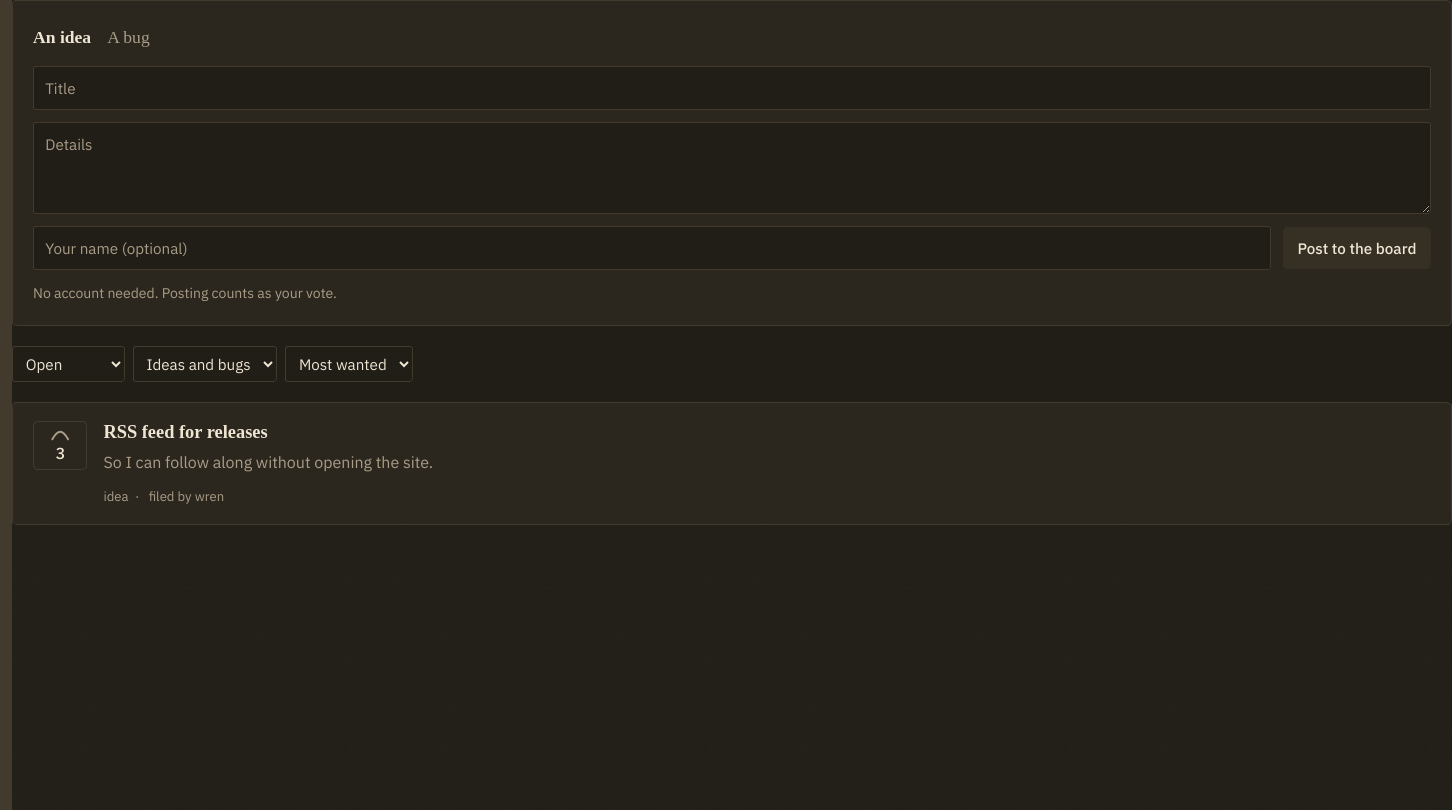
Test case: BoardPanel › surfaces a rejected mutation instead of swallowing it
Click the button "3" at x=60, y=446, box x1=33 y1=421 x2=87 y2=470
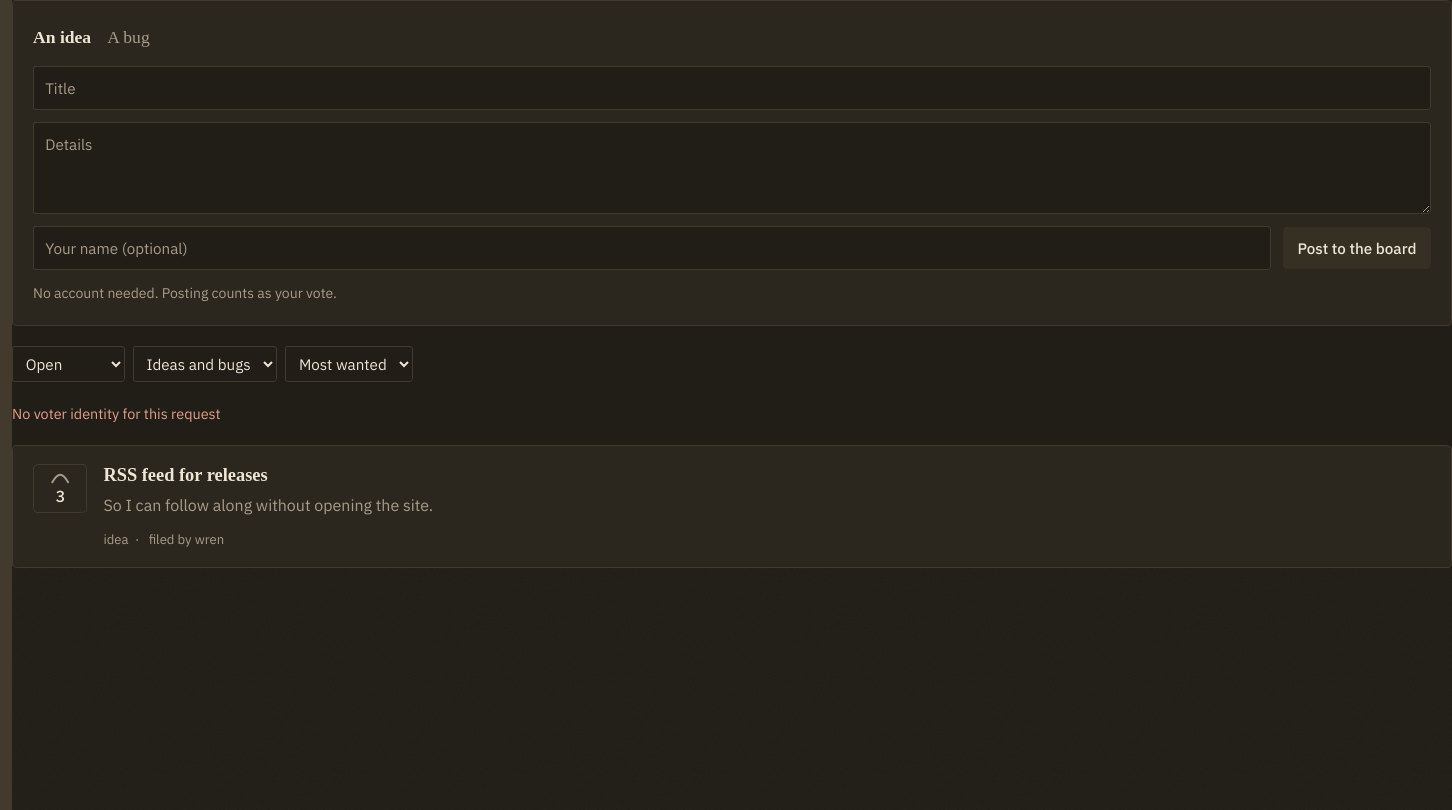
Check: the message "No voter identity for this request" is shown, box x1=12 y1=404 x2=221 y2=423
